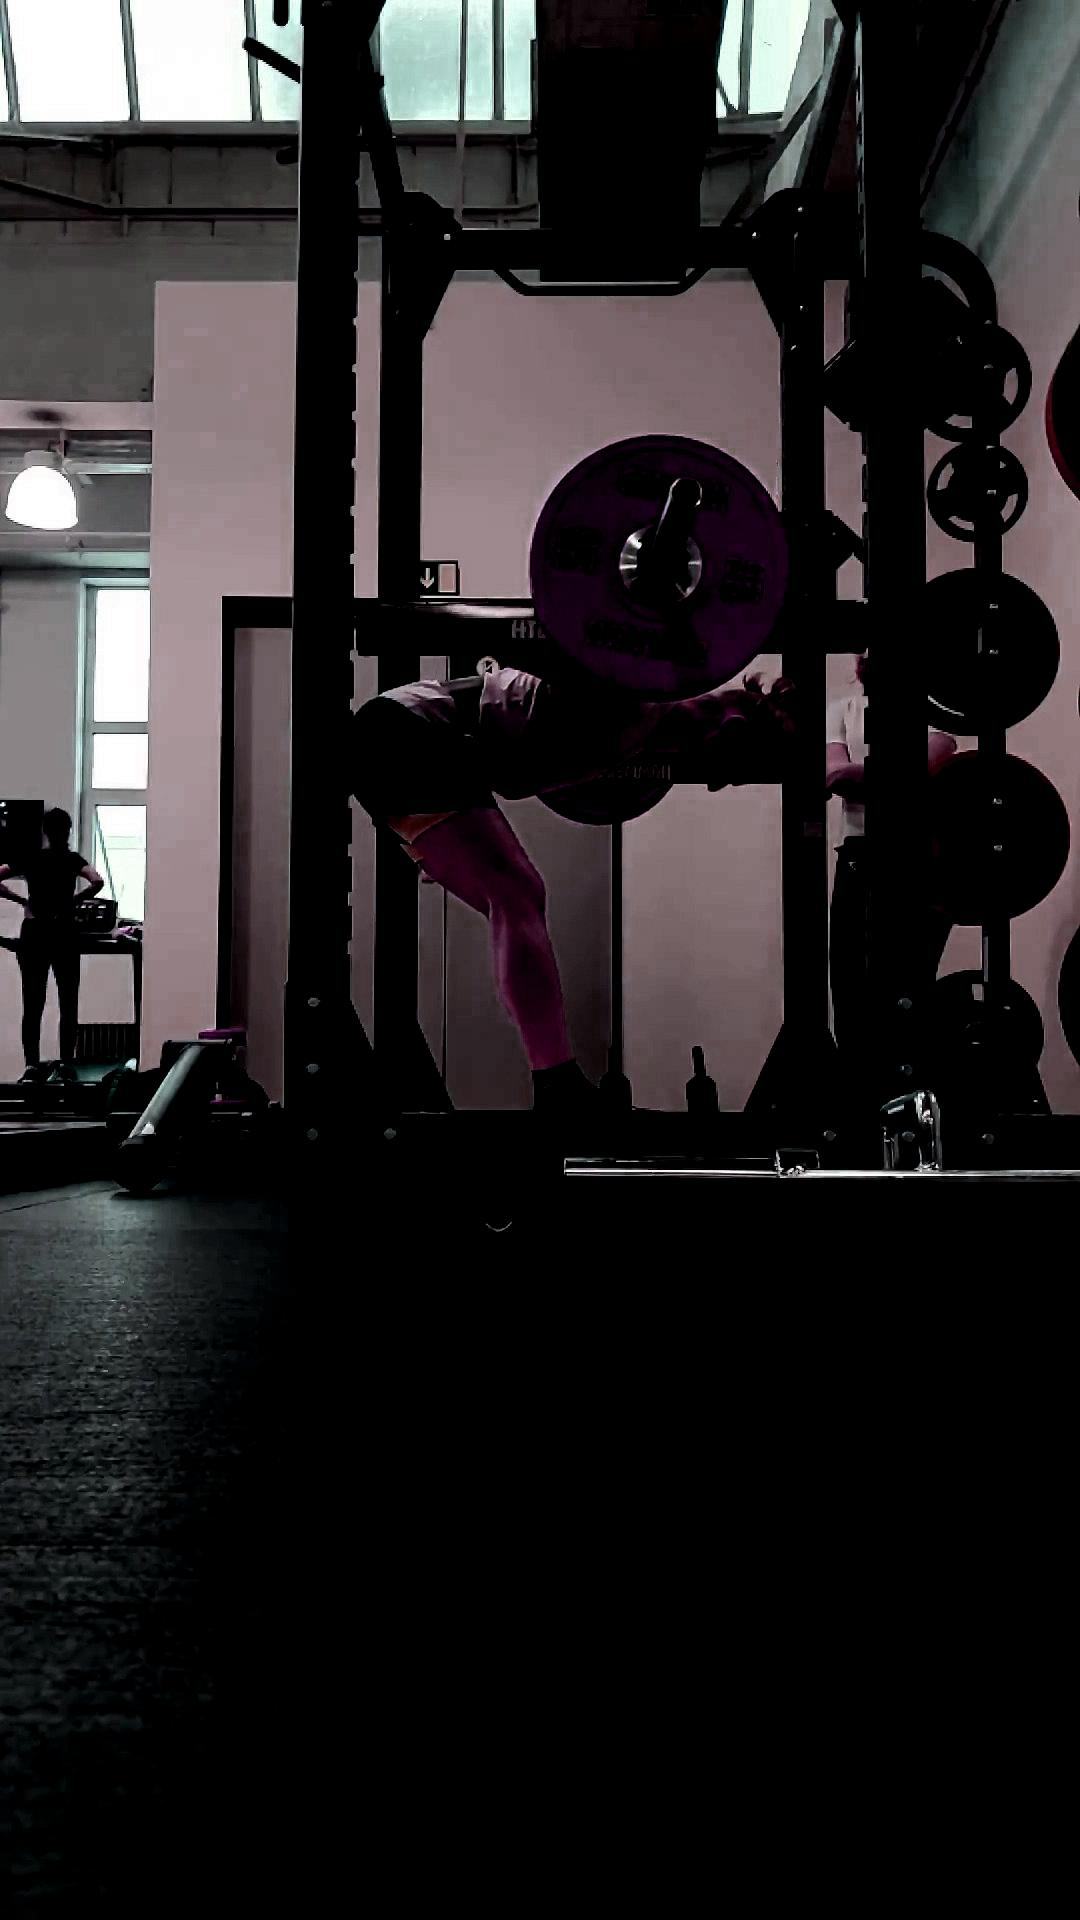barbell: (531, 433, 793, 702)
